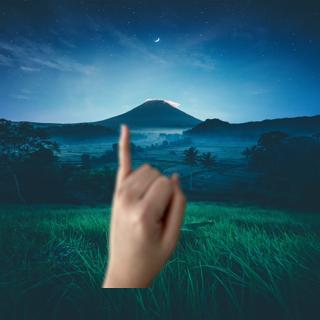FINE: (104, 118, 191, 276)
